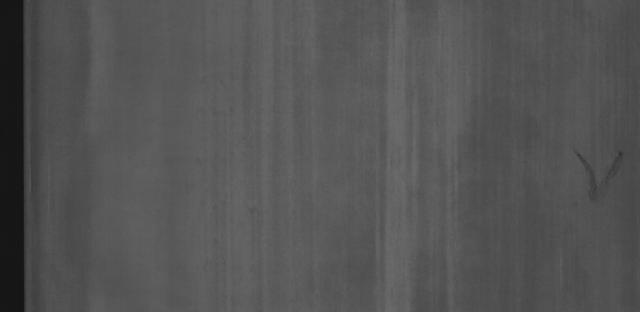water_spot: (568, 139, 625, 210)
